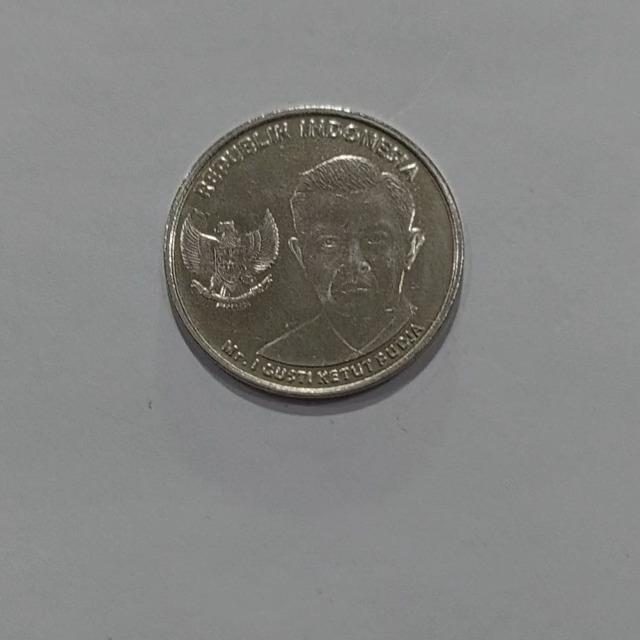Rp100: (162, 103, 466, 400), (252, 151, 428, 368)
